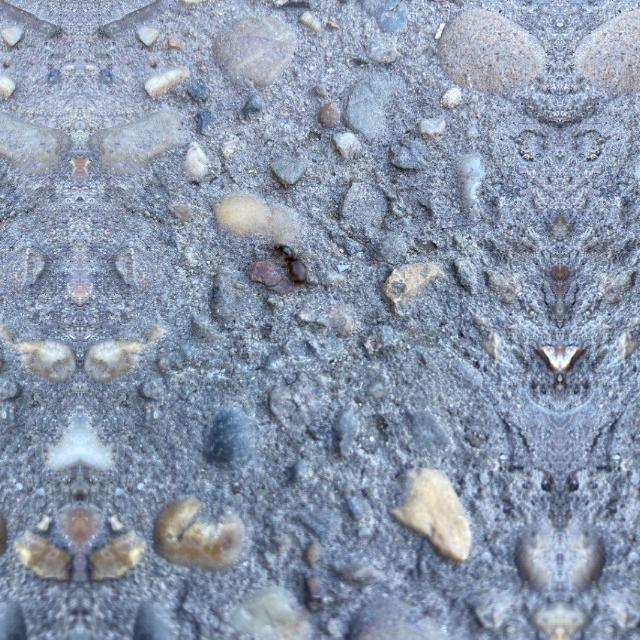Lasius: (266, 237, 312, 285)
